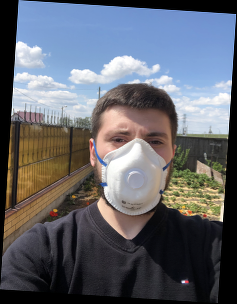with_mask: (97, 123, 172, 217)
